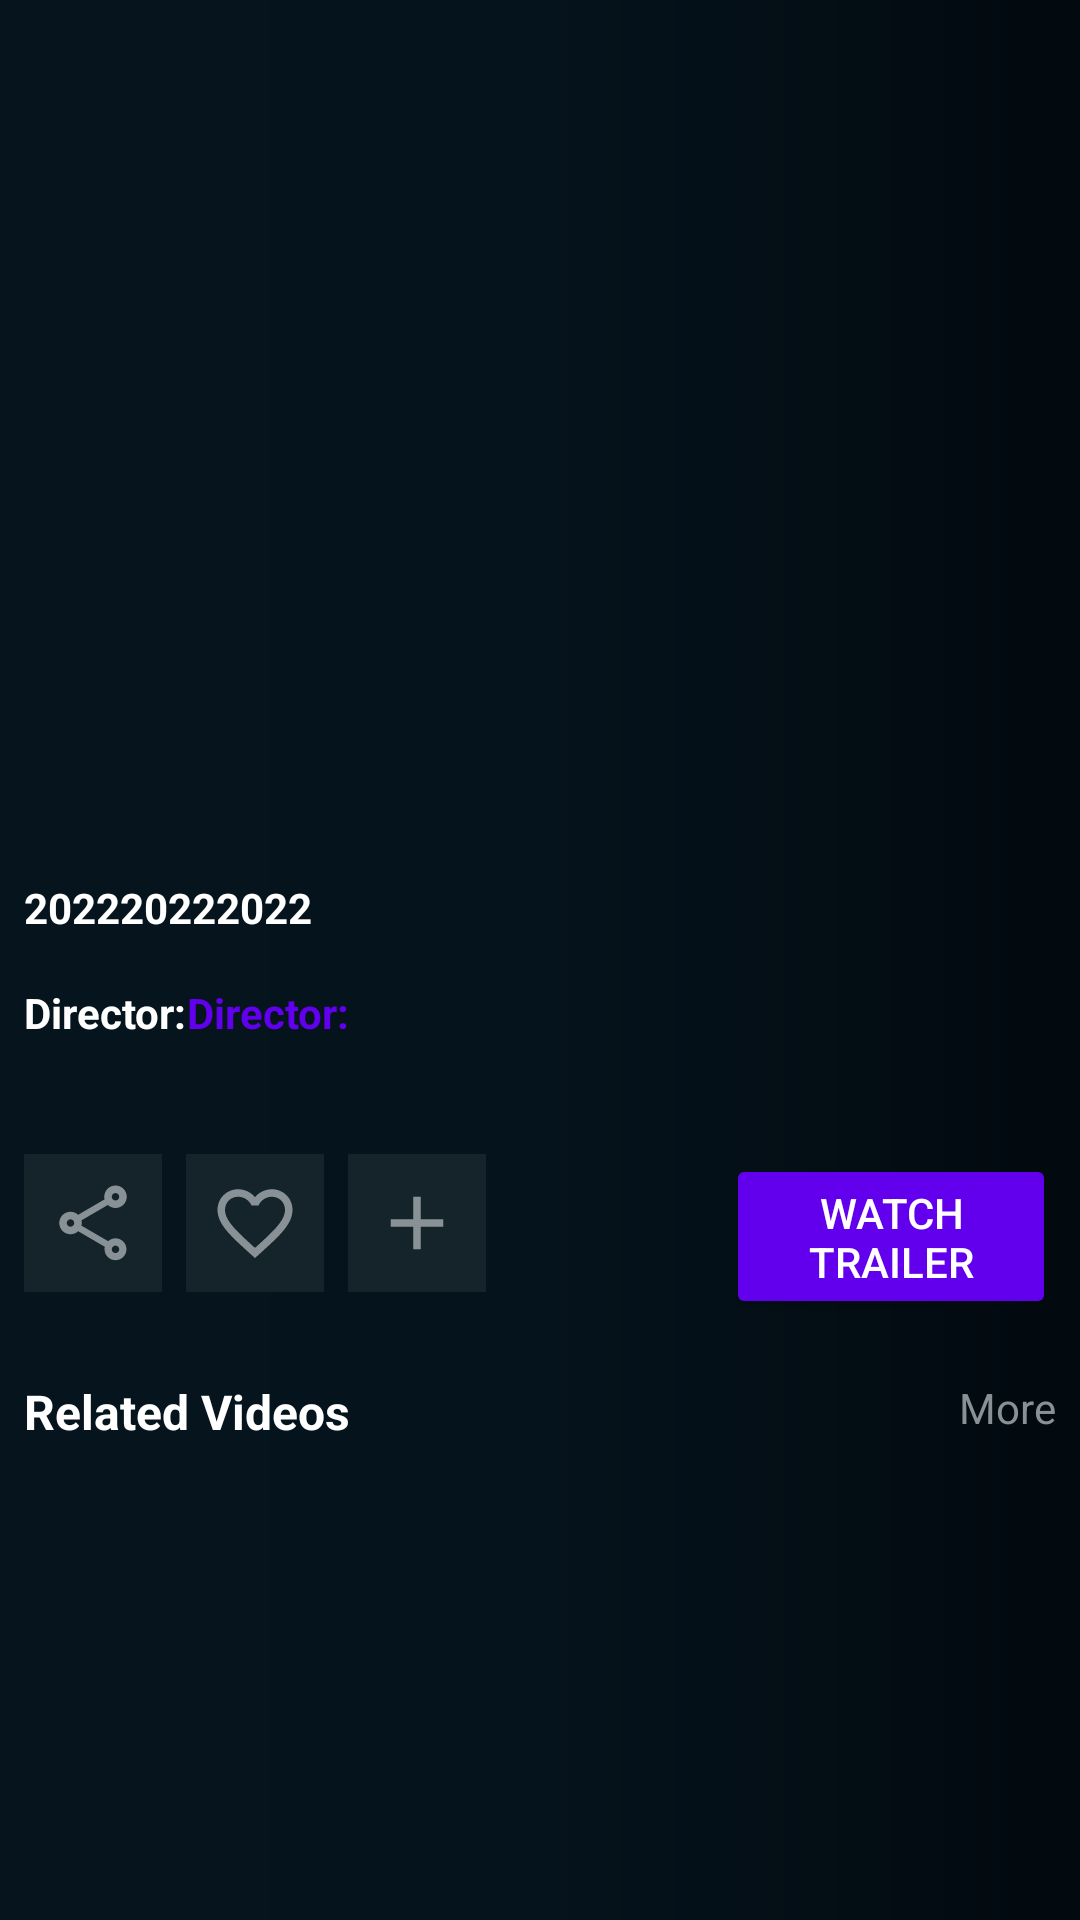

Icon bounding boxes for this 1080px x 1920px phone screenshot, format (x1, y1, x2, y2):
add: (348, 1154, 486, 1292)
favorite border: (186, 1154, 324, 1292)
share: (24, 1154, 162, 1292)
